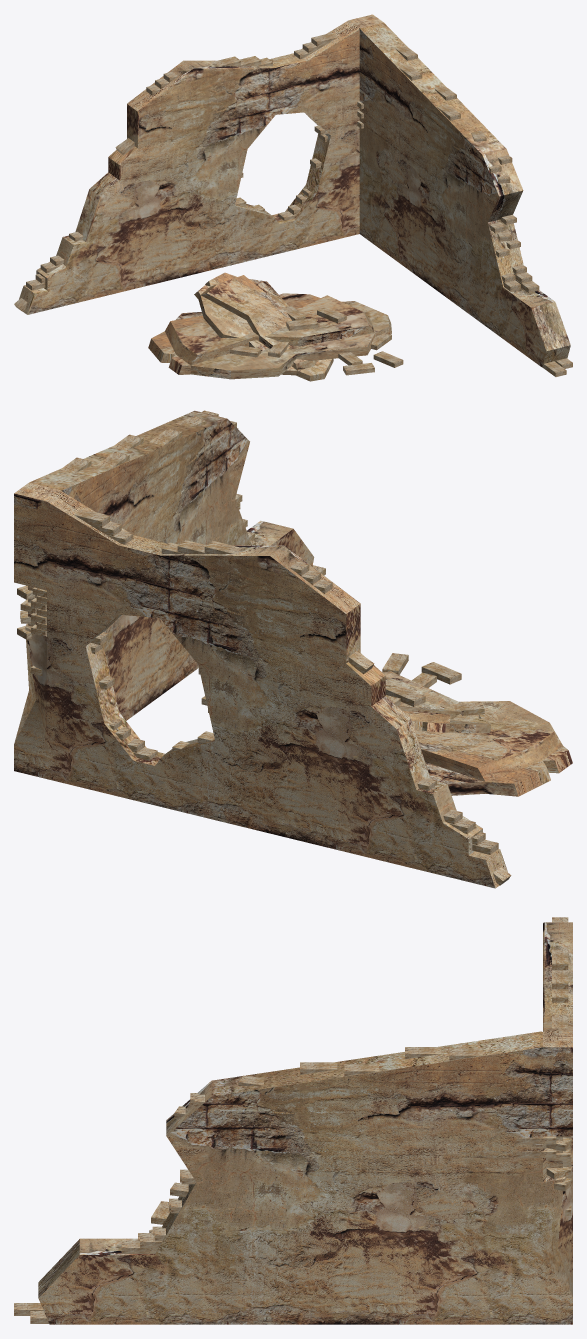
The model's file is ruin.fbx.
3 views of the same model, one above another, from view 1: azimuth 30°, elevation 25°; view 2: azimuth 150°, elevation 25°; view 3: azimuth 270°, elevation 25° (orthographic). The views are drawn at different scales.
Visible parts, largest first — view 1: Mesh; view 2: Mesh; view 3: Mesh.
Boxes of the visible parts, x1,y1,x2,y2 form: Mesh: [14, 14, 572, 381]; Mesh: [14, 410, 572, 888]; Mesh: [14, 917, 572, 1324].
Size of the model in its own units: 439 by 258 by 434.
